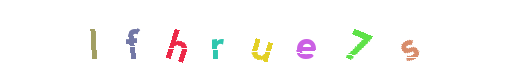7: (265, 0, 345, 80)
E: (226, 0, 306, 80)
F: (136, 0, 216, 80)
H: (176, 0, 256, 80)
L: (92, 0, 172, 80)
R: (220, 0, 300, 80)
S: (319, 0, 399, 80)
U: (221, 0, 301, 80)
